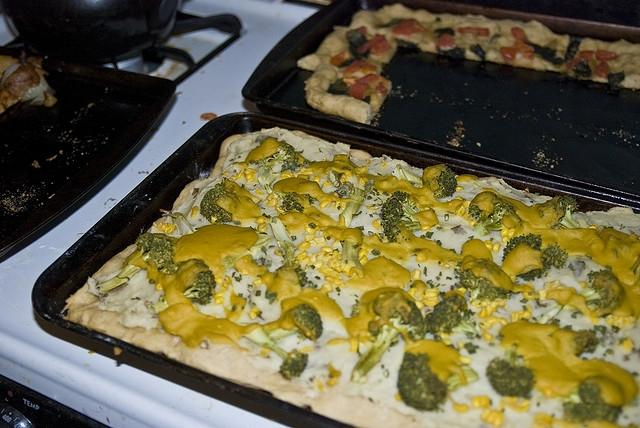broccoli: (350, 302, 425, 382), (398, 351, 478, 412), (96, 232, 174, 294), (148, 261, 217, 316), (486, 343, 536, 399), (562, 382, 622, 423), (380, 190, 422, 243), (264, 304, 323, 340), (578, 268, 626, 310), (468, 194, 515, 235), (262, 343, 308, 381), (199, 176, 233, 224), (460, 270, 510, 302), (502, 232, 542, 262), (342, 182, 366, 228), (262, 145, 298, 173), (556, 194, 582, 228), (434, 166, 458, 199), (541, 241, 568, 270), (280, 192, 318, 212), (342, 238, 364, 270), (574, 329, 599, 357), (432, 300, 456, 314), (281, 162, 305, 173), (294, 268, 308, 286), (339, 190, 346, 196)
